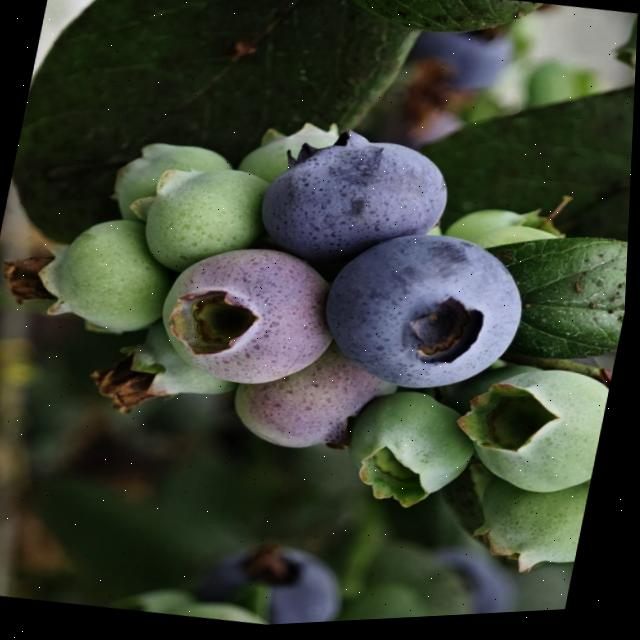RipeBlueBerry: (310, 219, 544, 414), (251, 121, 464, 278)
Semi-RipeBlueBerry: (145, 230, 357, 405)
